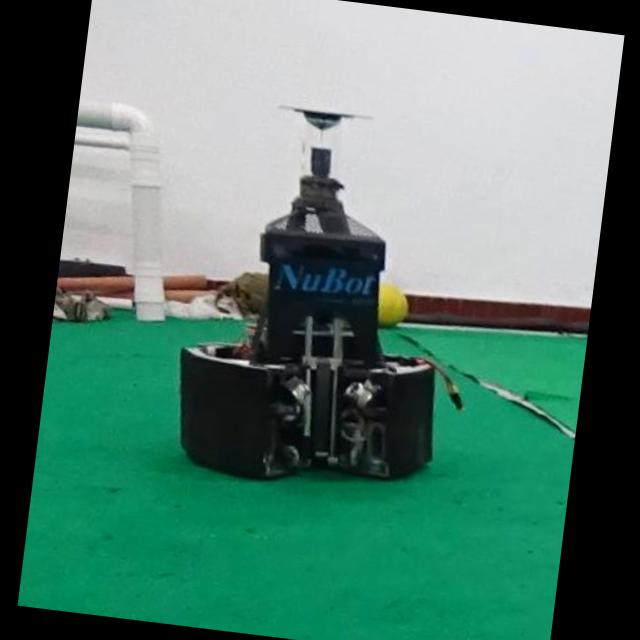ball: (377, 280, 408, 326)
robot: (179, 108, 433, 478)
